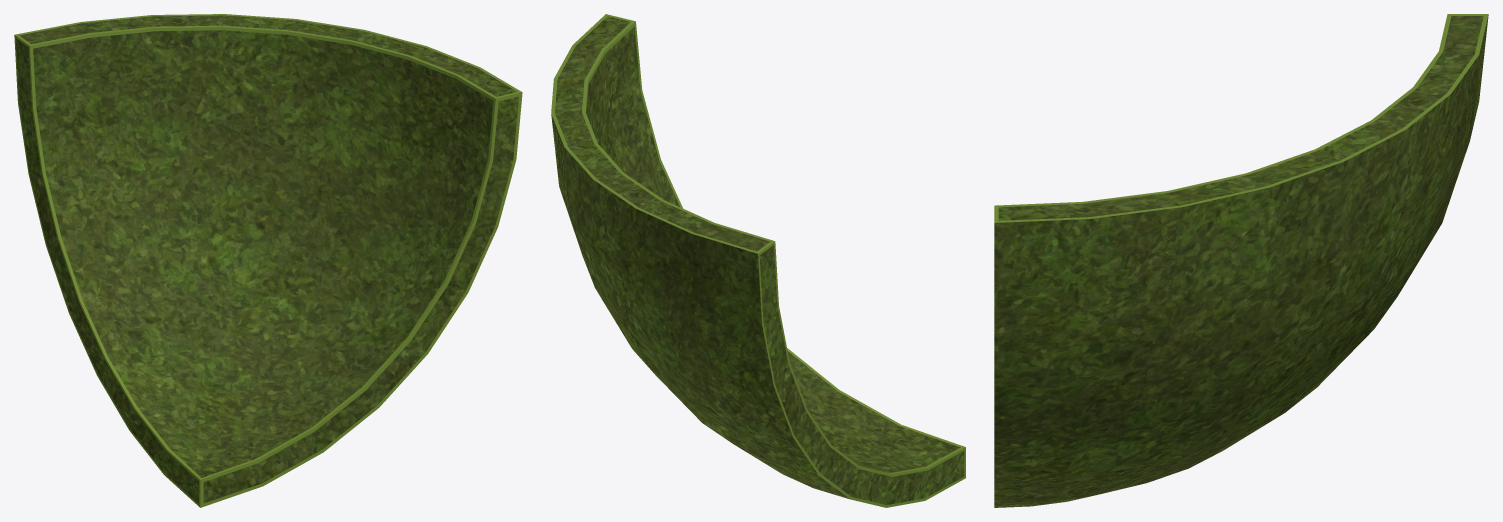
File: mountain_quarter_corner.gltf
3 renders of one model, left to right at view 1: azimuth 30°, elevation 25°; view 2: azimuth 150°, elevation 25°; view 3: azimuth 270°, elevation 25°, orthographic. The views are drawn at different scales.
Visible parts, largest first — view 1: mountain_quarter_corner_glb; view 2: mountain_quarter_corner_glb; view 3: mountain_quarter_corner_glb.
Part boxes in pixels (bbox=[...]): mountain_quarter_corner_glb: bbox=[14, 14, 522, 507]; mountain_quarter_corner_glb: bbox=[551, 14, 965, 507]; mountain_quarter_corner_glb: bbox=[994, 14, 1488, 507].
Size of what is drawn, in the model's own units: 3 by 3 by 3.
Materials: 1 (1 with a texture image).
